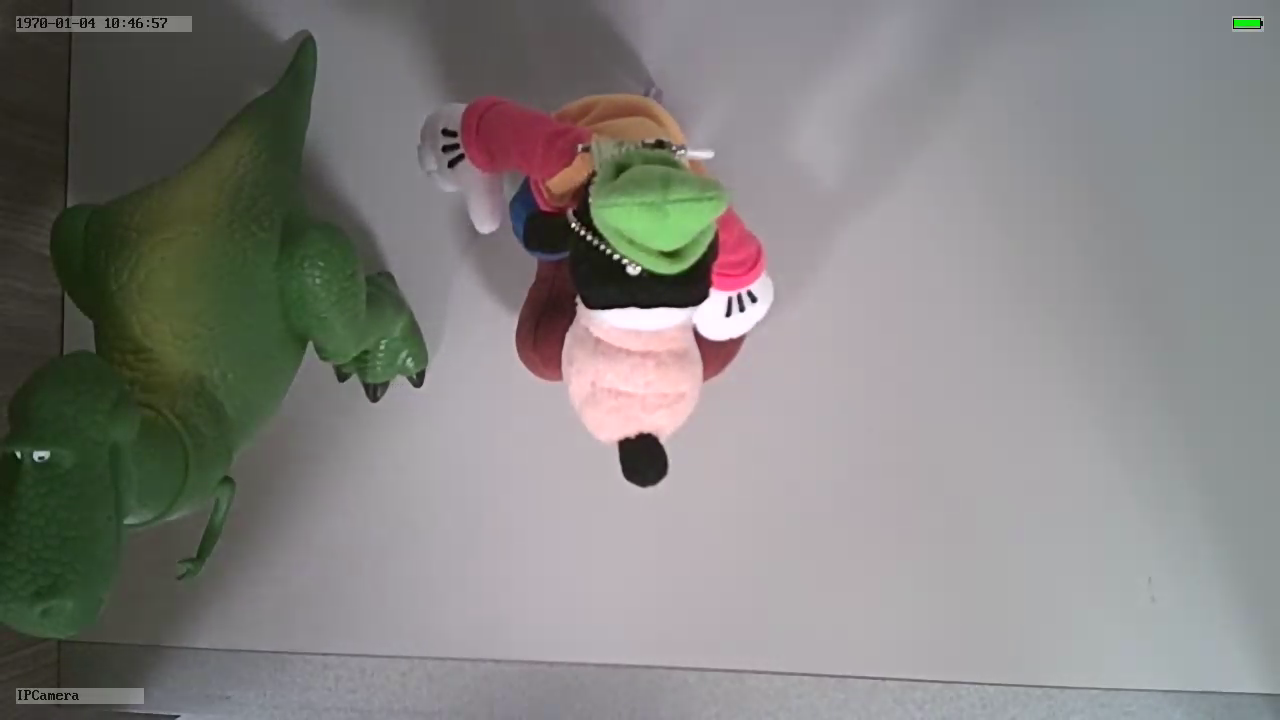goofy: (415, 85, 776, 493)
